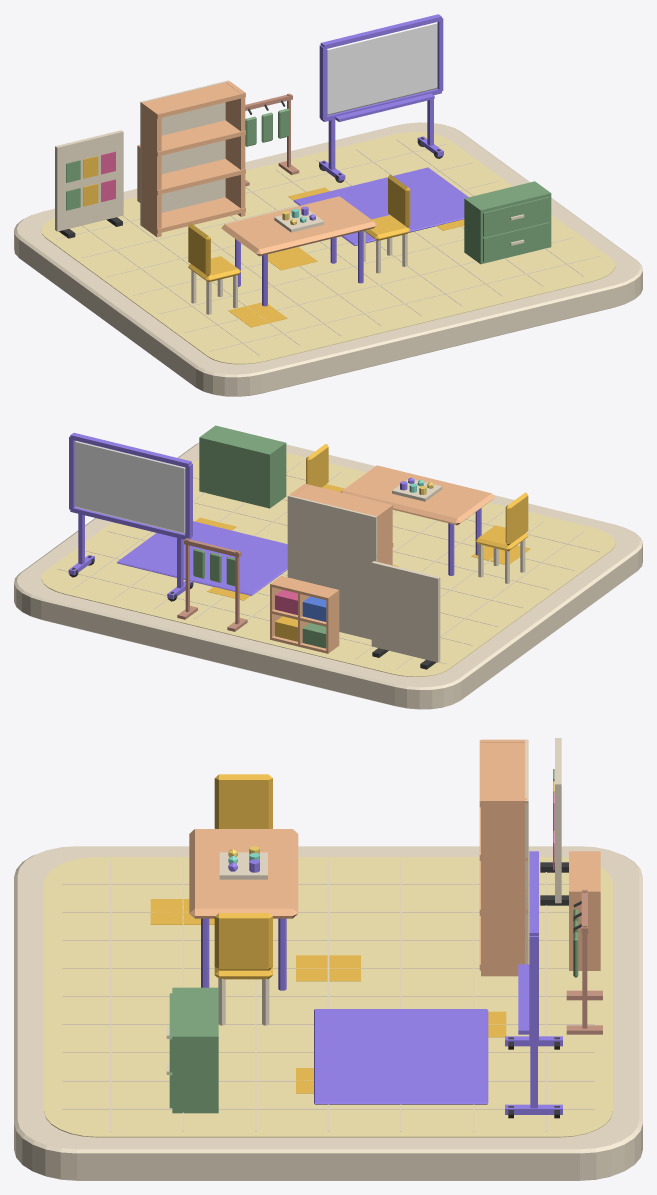
3 views of the same model, one above another, from view 1: azimuth 30°, elevation 25°; view 2: azimuth 150°, elevation 25°; view 3: azimuth 270°, elevation 25° (orthographic). The views are drawn at different scales.
Parts seen in each view (by area): view 1: COM-02 Floor Surface, COM-01 Rounded Base Direct, Writing surface, Cabinet, Rug, Panel, Rounded table top, Back, Side, Side.001, Shelf.003, Shelf.002 (+12 smaller); view 2: COM-02 Floor Surface, COM-01 Rounded Base Direct, Back, Writing surface, Panel, Cabinet, Rug, Rounded table top, Shelf.003, Frame rail.001, Backrest, Backrest.001 (+13 smaller); view 3: COM-02 Floor Surface, COM-01 Rounded Base Direct, Rug, Rounded table top, Side.001, Cabinet, Backrest.001, Backrest, Shelf.003, Cubbies divider.002, Geometric color tile.001, Cubbies shelf.002 (+12 smaller).
Part boxes in pixels (bbox=[...]): COM-02 Floor Surface: bbox=[41, 132, 615, 364]; COM-01 Rounded Base Direct: bbox=[14, 122, 642, 396]; Writing surface: bbox=[327, 22, 437, 115]; Cabinet: bbox=[464, 181, 551, 264]; Rug: bbox=[293, 167, 468, 245]; Panel: bbox=[55, 130, 123, 231]; Rounded table top: bbox=[221, 196, 376, 256]; Back: bbox=[140, 80, 229, 225]; Side: bbox=[141, 101, 161, 237]; Side.001: bbox=[225, 81, 245, 216]; Shelf.003: bbox=[141, 82, 245, 118]; Shelf.002: bbox=[141, 120, 245, 156]; COM-02 Floor Surface: bbox=[41, 453, 615, 676]; COM-01 Rounded Base Direct: bbox=[14, 443, 642, 709]; Back: bbox=[287, 495, 377, 639]; Writing surface: bbox=[74, 440, 185, 533]; Panel: bbox=[371, 561, 440, 662]; Cabinet: bbox=[199, 425, 286, 508]; Rug: bbox=[117, 521, 287, 595]; Rounded table top: bbox=[340, 465, 494, 525]; Shelf.003: bbox=[294, 483, 393, 520]; Frame rail.001: bbox=[70, 433, 191, 467]; Backrest: bbox=[505, 492, 528, 545]; Backrest.001: bbox=[306, 444, 328, 487]; COM-02 Floor Surface: bbox=[44, 857, 612, 1137]; COM-01 Rounded Base Direct: bbox=[14, 846, 642, 1180]; Rug: bbox=[314, 1009, 488, 1104]; Rounded table top: bbox=[189, 829, 298, 918]; Side.001: bbox=[481, 798, 526, 976]; Cabinet: bbox=[166, 987, 218, 1113]; Backrest.001: bbox=[214, 913, 272, 970]; Backrest: bbox=[214, 774, 272, 828]; Shelf.003: bbox=[479, 740, 527, 807]; Cubbies divider.002: bbox=[569, 892, 600, 970]; Geometric color tile.001: bbox=[296, 955, 360, 981]; Cubbies shelf.002: bbox=[569, 851, 600, 891].
Size of the model in its own units: 6 by 2.04 by 5.2.
Materials: 1 (1 with a texture image).
